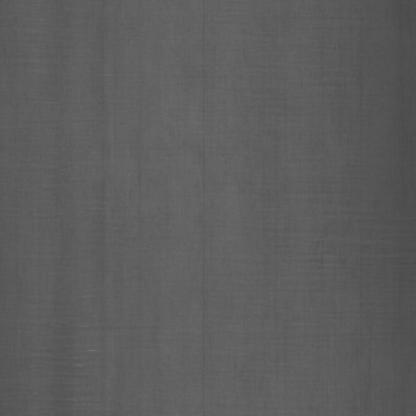waist_folding: (4, 27, 102, 400)
